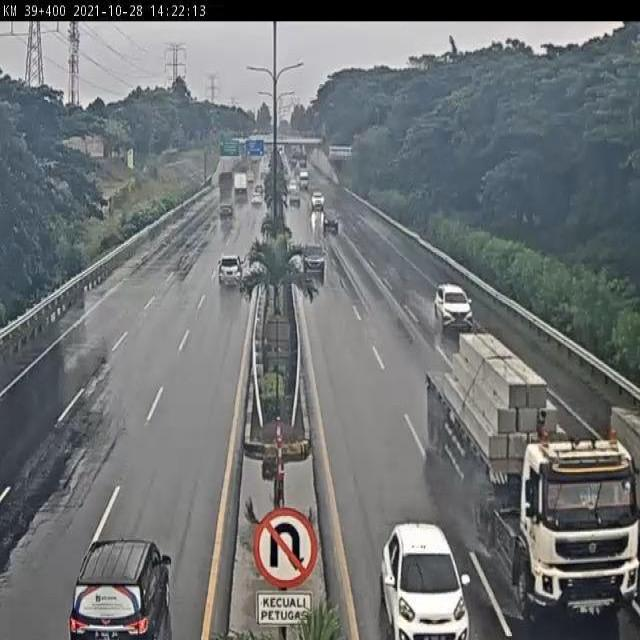car: (71, 536, 174, 640), (381, 522, 471, 640), (431, 279, 475, 329), (216, 252, 244, 291), (301, 240, 326, 273)
truck-xl-: (428, 343, 640, 617)
